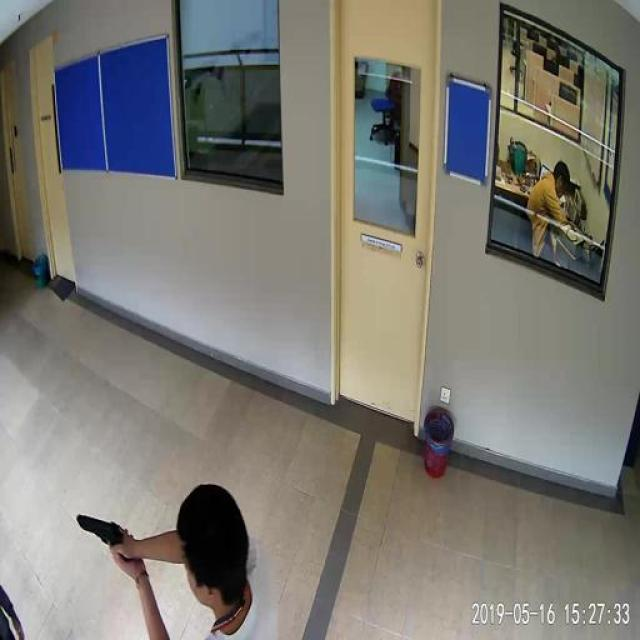Gun: (66, 504, 143, 567)
